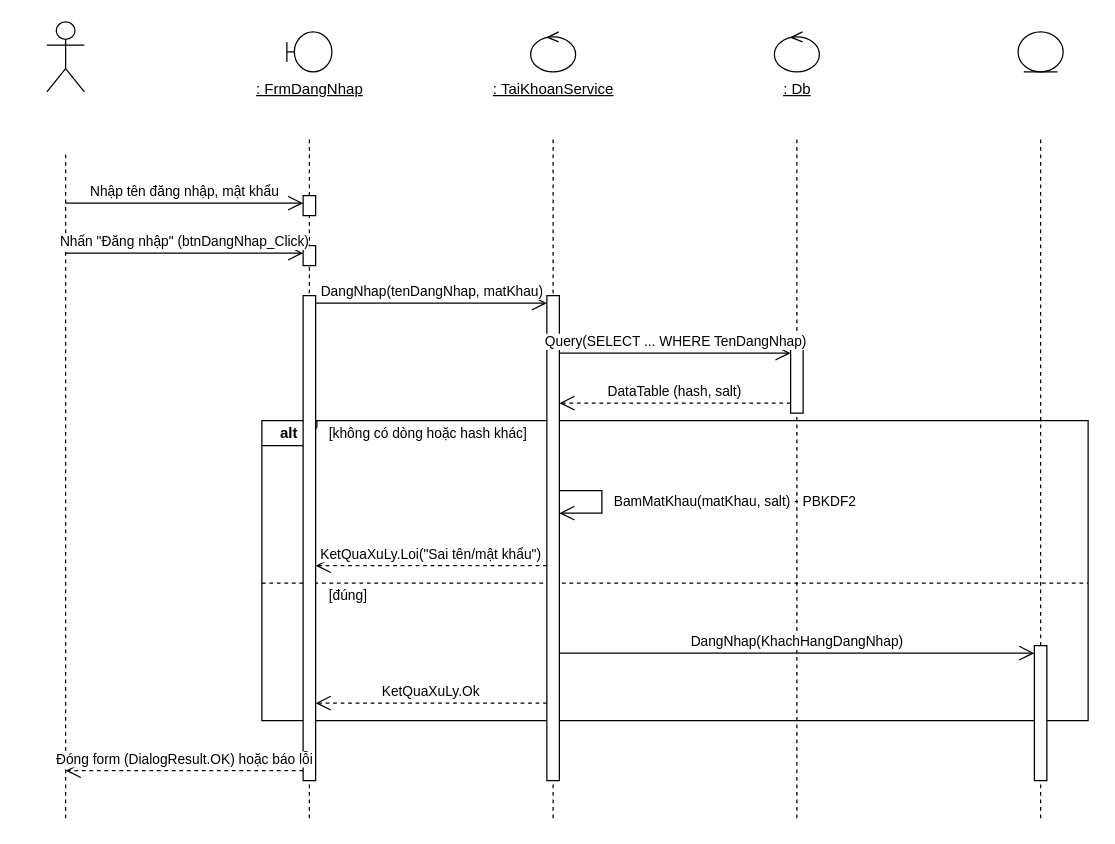
The diagram is 1115 pixels wide and 844 high, and some of its shapes have lost their labels. The shapes that lost their labels are listed below. From the top down, each one's centre as x and y in pixels, then its label:
(x=65, y=56): : Khách hàng
(x=1040, y=51): : PhienLamViec
